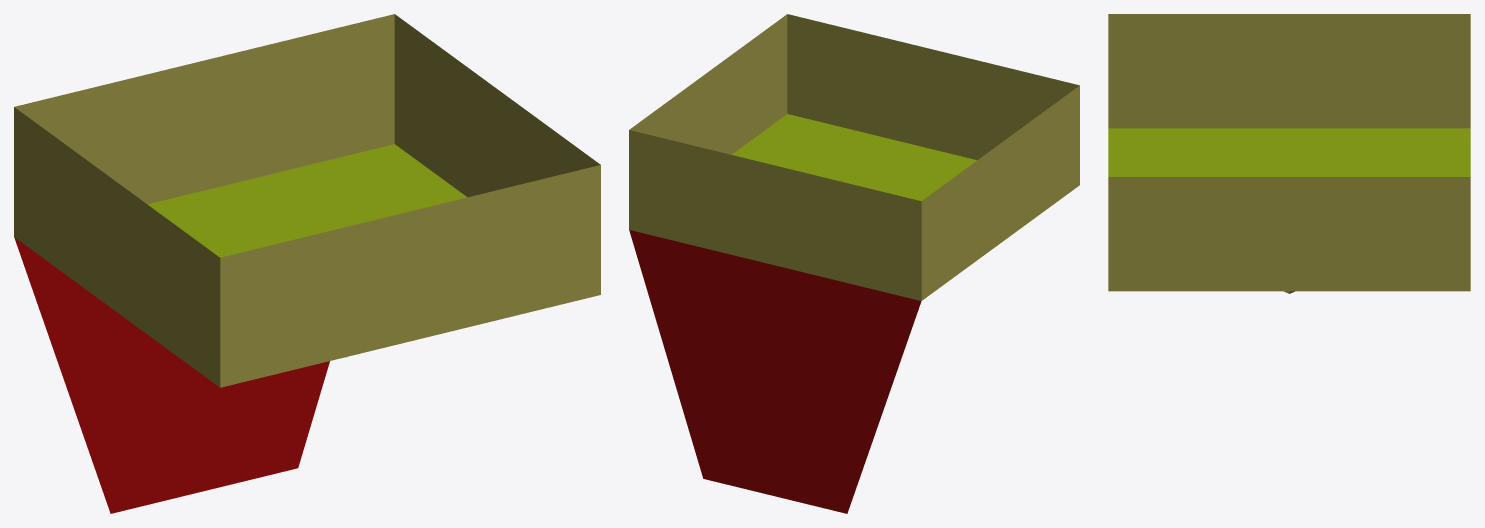
Rendered from MEME00.obj.
3 renders of one model, left to right at view 1: azimuth 30°, elevation 25°; view 2: azimuth 150°, elevation 25°; view 3: azimuth 270°, elevation 25°, orthographic. The views are drawn at different scales.
Visible parts, largest first — view 1: Cube.002_Cube.022; view 2: Cube.002_Cube.022; view 3: Cube.002_Cube.022.
Part boxes in pixels (<box>): Cube.002_Cube.022: <box>14,14,600,513</box>; Cube.002_Cube.022: <box>629,14,1079,513</box>; Cube.002_Cube.022: <box>1108,14,1470,293</box>.
Size of the model in its own units: 62.64 by 67.71 by 58.74.
